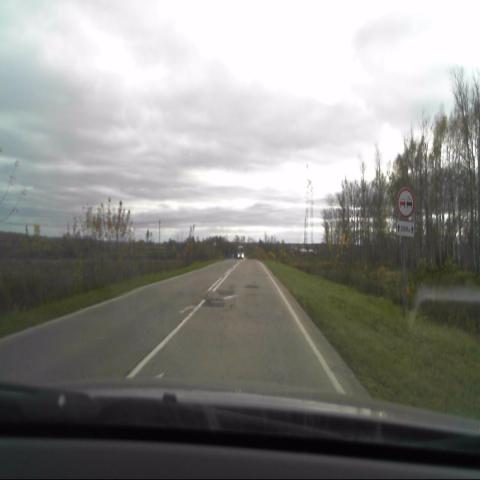8_2_1: (396, 221, 414, 238)
